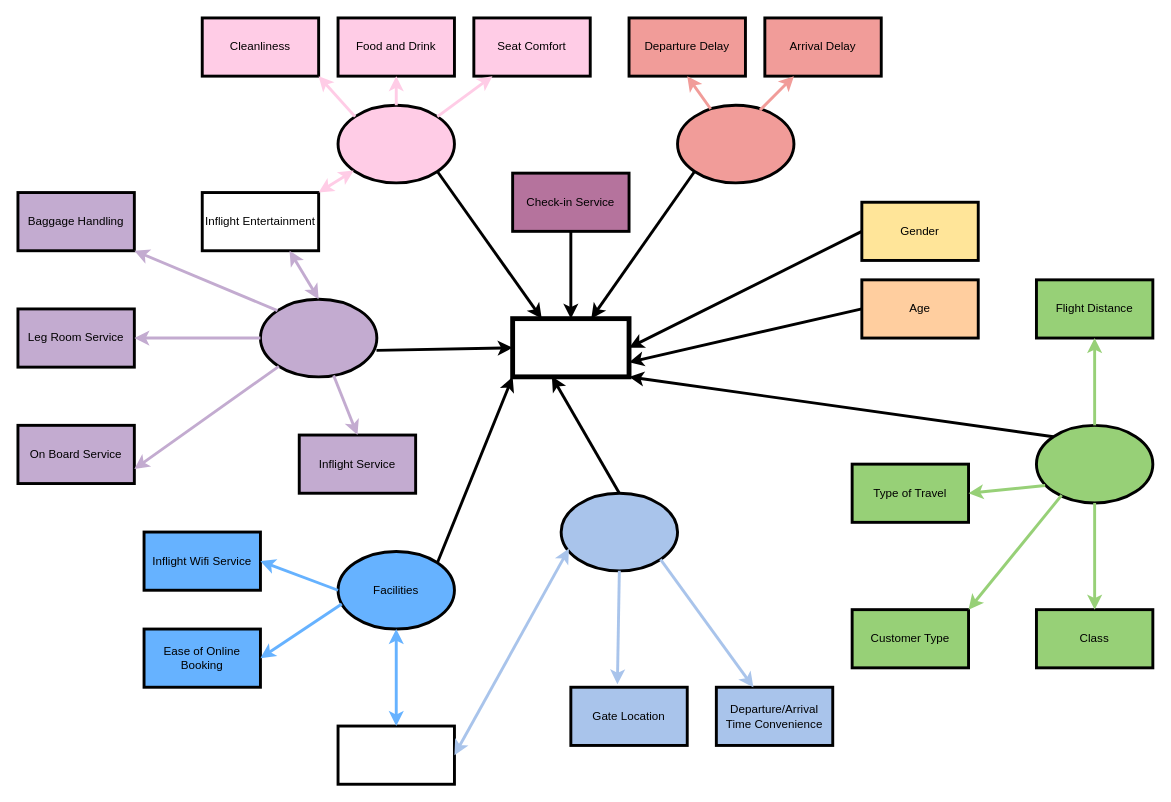
Some shapes in this 1171 by 802 pixel diagram are drawn without their labels. The box of each missing label's shape, as (x1, y1, x2, y2) in pixels:
Accomodations: (259, 297, 378, 378)
Convenience: (559, 491, 679, 572)
Delays: (676, 103, 795, 184)
Hospitality: (336, 103, 455, 184)
Online Boarding: (336, 724, 455, 785)
Privilege: (1035, 423, 1154, 504)
Satisfaction: (510, 316, 631, 379)
